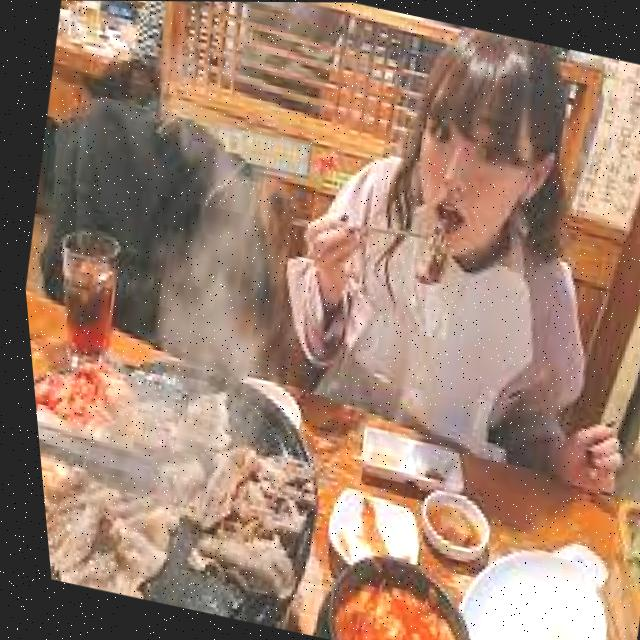eating-person: (231, 1, 640, 515)
